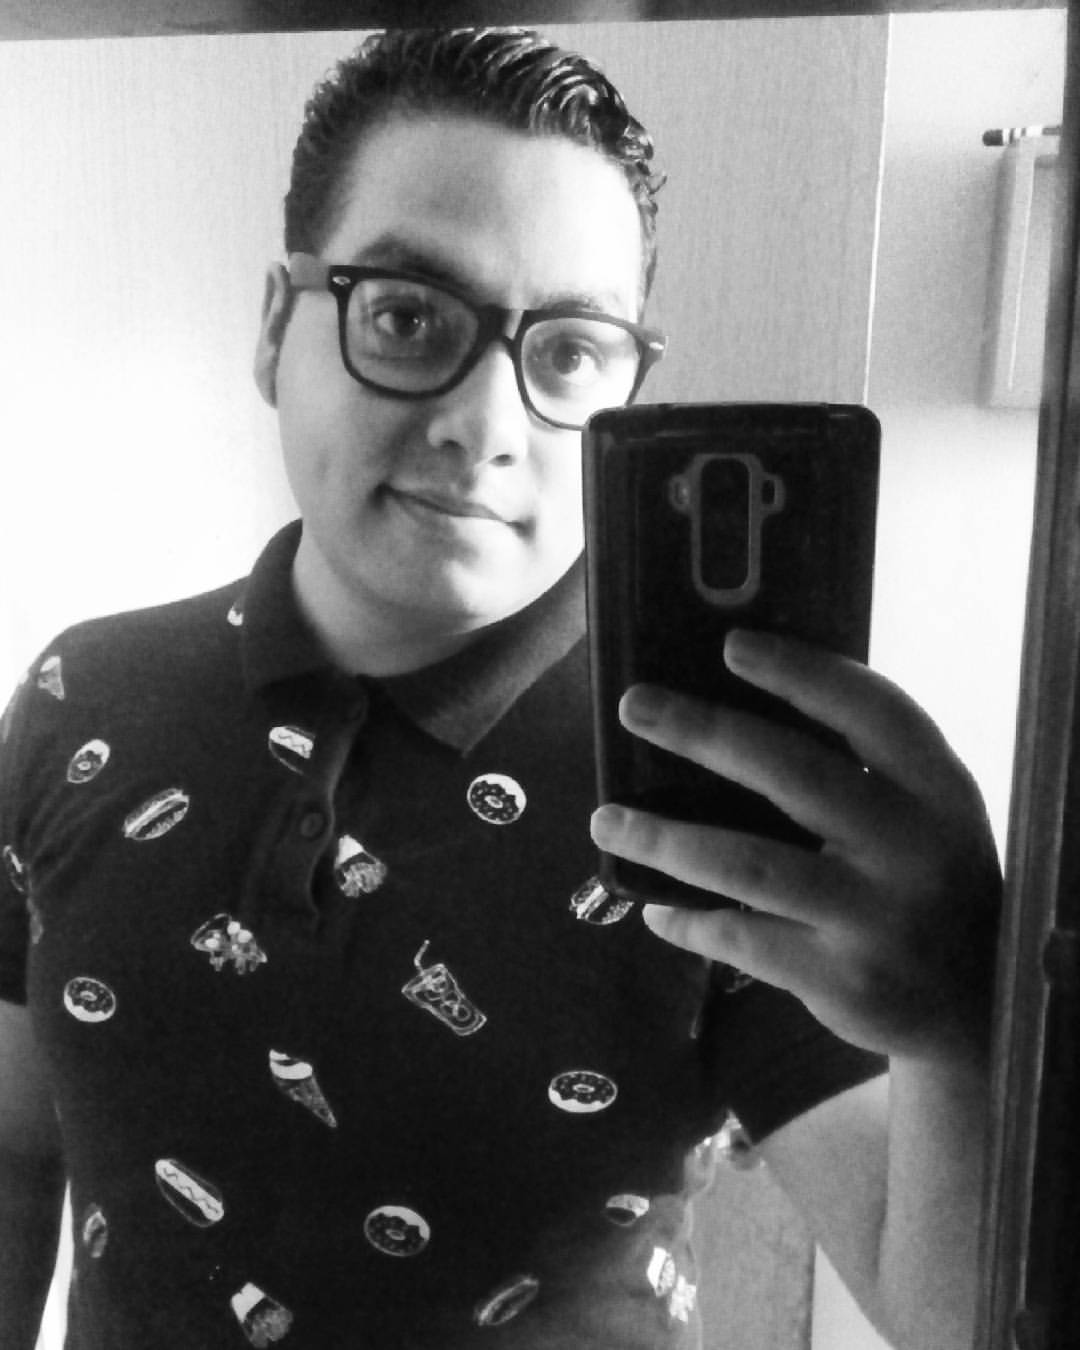Yoshi: (222, 48, 749, 688)
